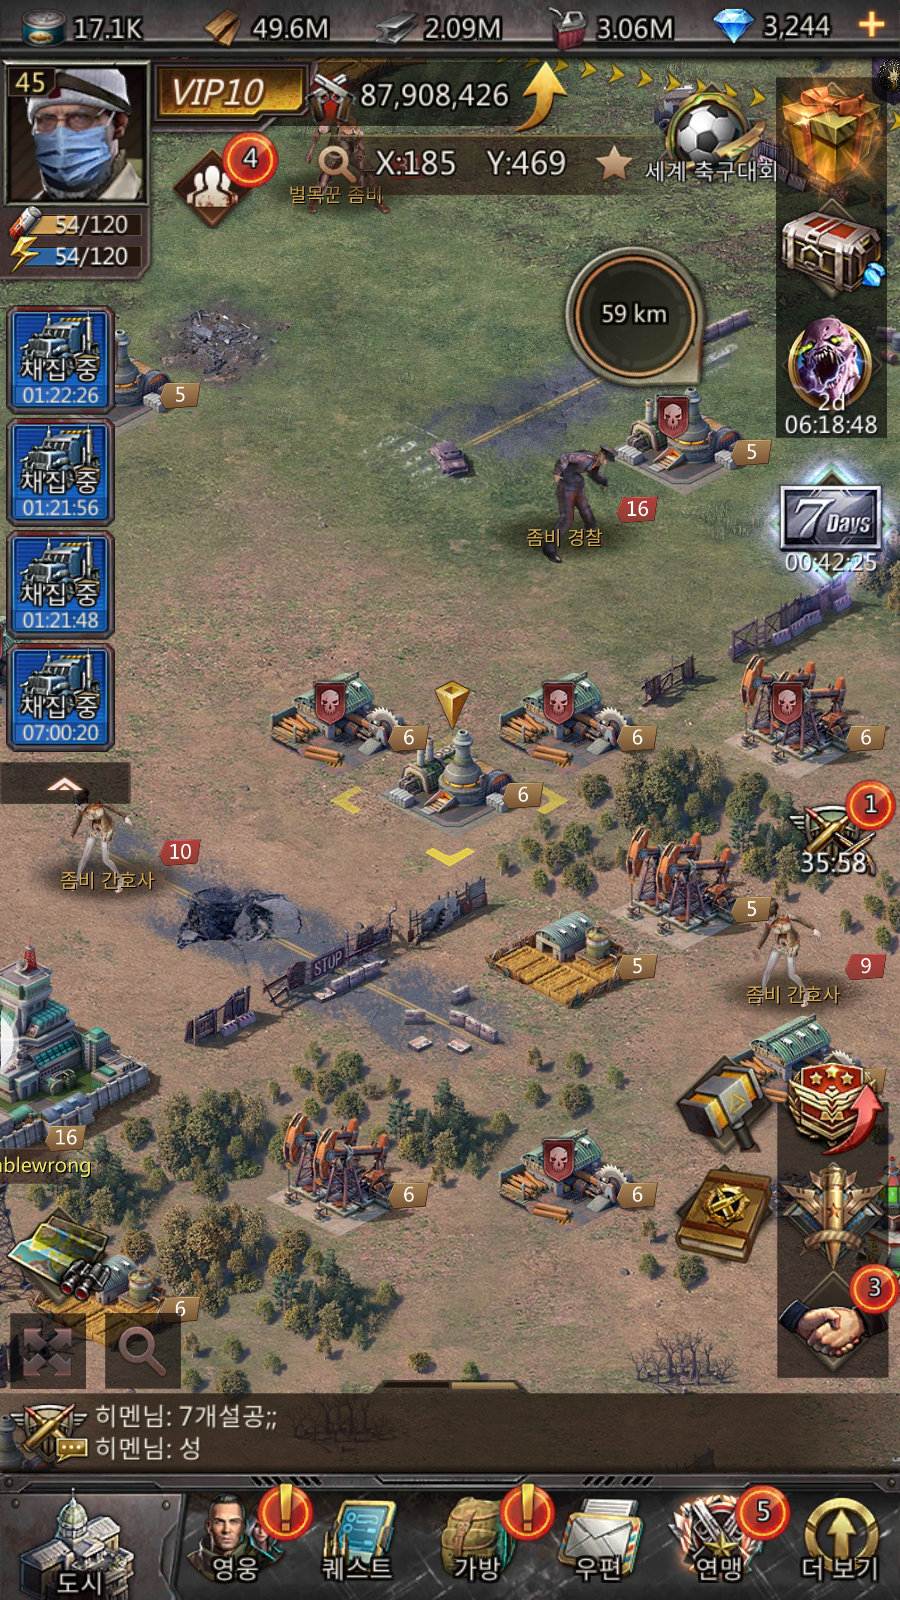city: (13, 1485, 189, 1600)
empty_steel: (316, 662, 584, 884)
open_panel: (95, 1296, 196, 1407)
troops_cnt_4: (162, 120, 293, 251)
